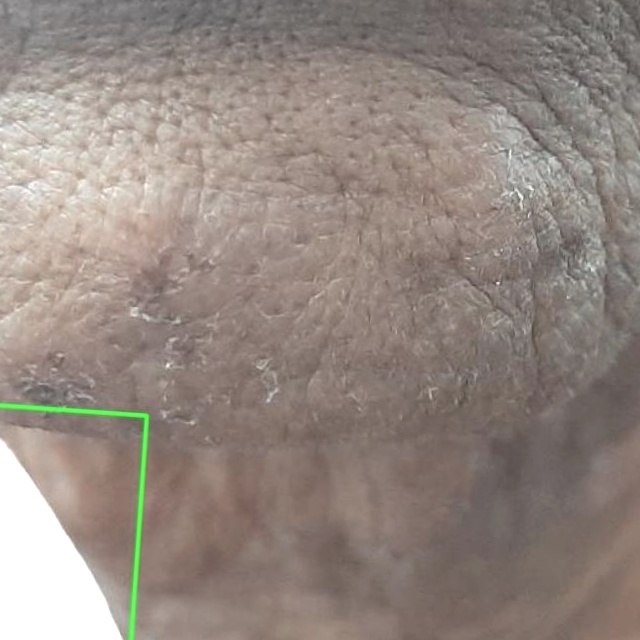Eczema: (0, 405, 146, 639)
